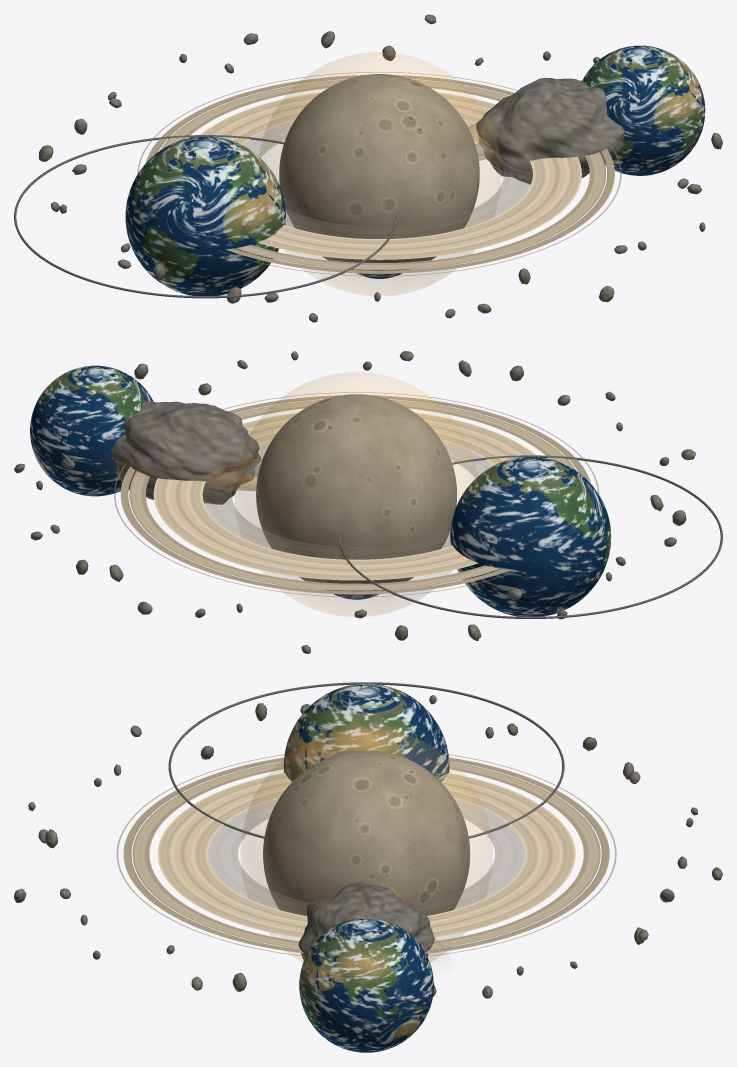
Rendered from solar-system.glb.
3 views of the same model, one above another, from view 1: azimuth 30°, elevation 25°; view 2: azimuth 150°, elevation 25°; view 3: azimuth 270°, elevation 25° (orthographic). The views are drawn at different scales.
Visible parts, largest first — view 1: sun, saturn-rings, mercury, moon-parent, reflecting-world, asteroid-specimen, asteroid-belt, moon-demo; view 2: sun, saturn-rings, mercury, moon-parent, reflecting-world, asteroid-specimen, asteroid-belt, moon-demo, dust-tail; view 3: saturn-rings, sun, mercury, reflecting-world, moon-parent, asteroid-specimen, asteroid-belt, moon-demo.
Boxes of the visible parts, x1,y1,x2,y2 form: sun: [259, 52, 500, 295]; saturn-rings: [137, 72, 621, 276]; mercury: [279, 74, 479, 274]; moon-parent: [125, 136, 285, 295]; reflecting-world: [582, 45, 705, 175]; asteroid-specimen: [476, 77, 624, 184]; asteroid-belt: [38, 14, 722, 322]; moon-demo: [14, 135, 397, 298]; sun: [234, 373, 476, 616]; saturn-rings: [114, 392, 599, 597]; mercury: [256, 394, 456, 595]; moon-parent: [450, 457, 611, 616]; reflecting-world: [30, 365, 153, 496]; asteroid-specimen: [111, 401, 261, 504]; asteroid-belt: [14, 351, 695, 653]; moon-demo: [338, 455, 722, 618]; dust-tail: [131, 459, 261, 491]; saturn-rings: [116, 754, 616, 956]; sun: [241, 728, 492, 962]; mercury: [263, 750, 470, 915]; reflecting-world: [299, 918, 433, 1052]; moon-parent: [283, 683, 449, 781]; asteroid-specimen: [298, 881, 434, 960]; asteroid-belt: [14, 695, 722, 998]; moon-demo: [168, 682, 564, 838].
Bounding box in the file's own units: 7.56 × 2.44 × 6.84.
12 materials, 9 textured.
